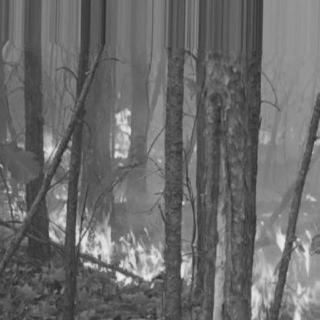Fire: (252, 203, 320, 316), (113, 108, 135, 156)
